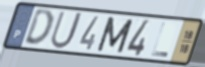4: (126, 18, 150, 58), (78, 15, 100, 51)
D: (22, 9, 55, 49)
L: (149, 21, 170, 59)
M: (94, 16, 135, 55)
U: (48, 10, 85, 51)
